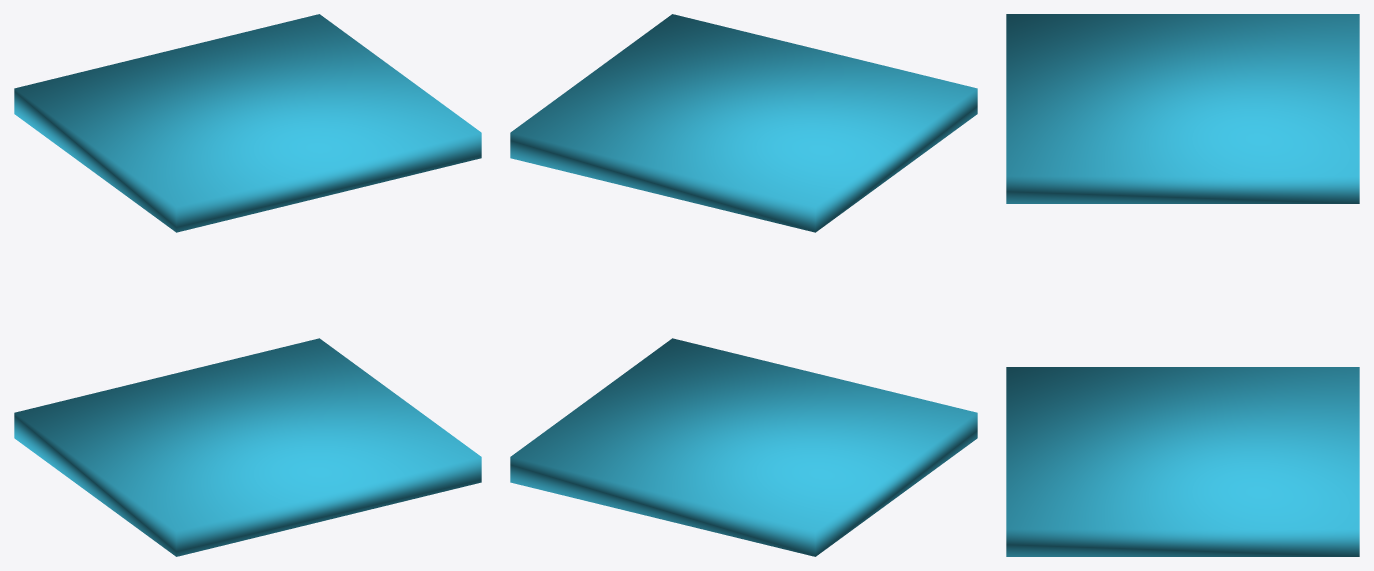
Rendered from glass2.fbx.
3 views of the same model, side by side, from view 1: azimuth 30°, elevation 25°; view 2: azimuth 150°, elevation 25°; view 3: azimuth 270°, elevation 25° (orthographic). The views are drawn at different scales.
Visible parts, largest first — view 1: Plane_155; view 2: Plane_155; view 3: Plane_155.
Part boxes in pixels (bbox=[...]): Plane_155: bbox=[14, 14, 481, 556]; Plane_155: bbox=[510, 14, 977, 556]; Plane_155: bbox=[1006, 14, 1359, 556].
Size of the model in its own units: 5 by 5.48 by 4.6.
Materials: 1 (1 with a texture image).
